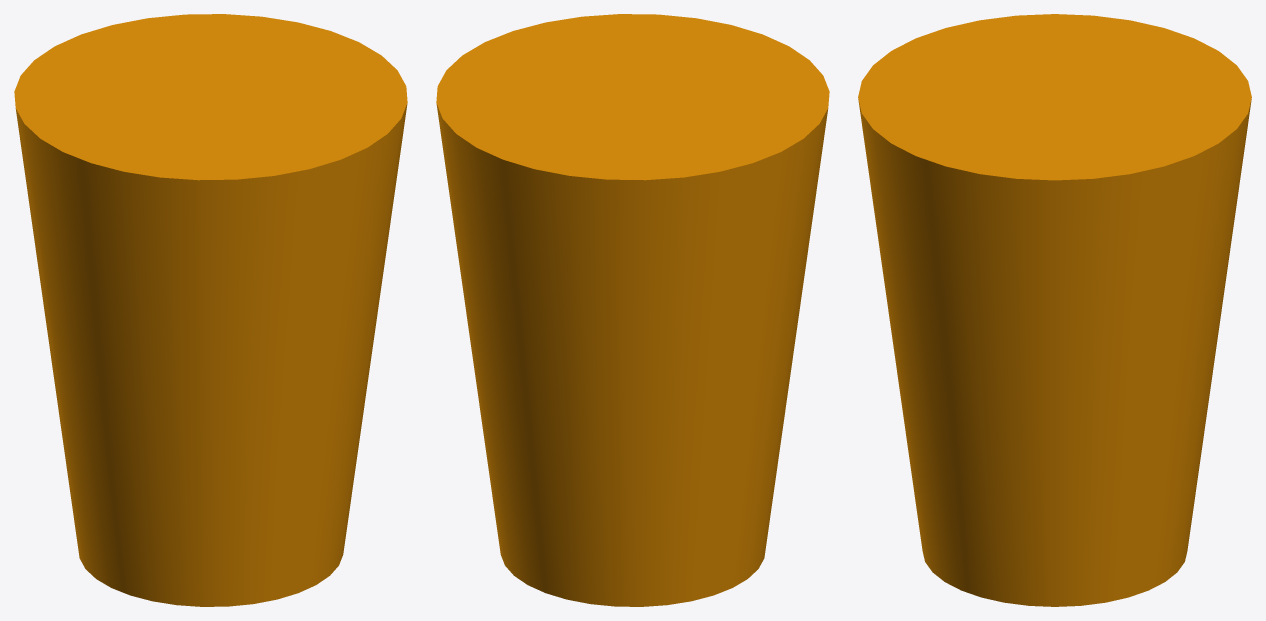
The model's file is AmericanCup_Liquid.fbx.
3 views of the same model, side by side, from view 1: azimuth 30°, elevation 25°; view 2: azimuth 150°, elevation 25°; view 3: azimuth 270°, elevation 25° (orthographic).
Visible parts, largest first — view 1: AmericanCup_Liquid; view 2: AmericanCup_Liquid; view 3: AmericanCup_Liquid.
Boxes of the visible parts, bbox=[...] form: AmericanCup_Liquid: bbox=[14, 14, 407, 606]; AmericanCup_Liquid: bbox=[436, 14, 829, 606]; AmericanCup_Liquid: bbox=[858, 14, 1251, 606].
Bounding box in the file's own units: 250 × 318 × 250.
